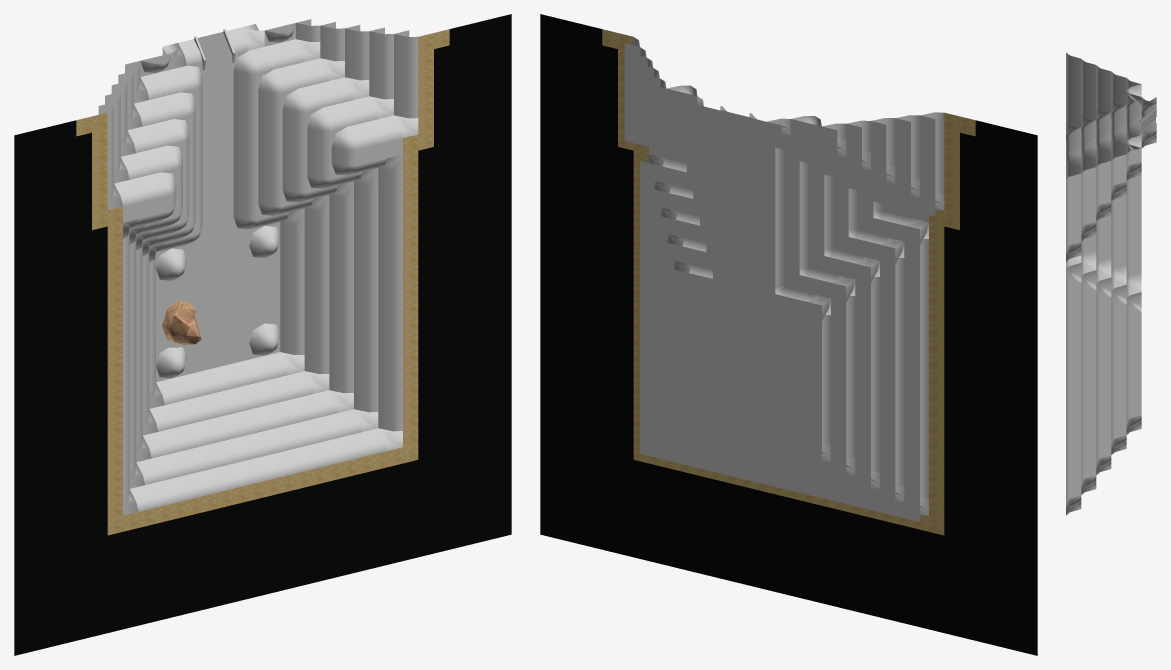
File: Subterranean-Cave-1_00_02.obj
3 renders of one model, left to right at view 1: azimuth 30°, elevation 25°; view 2: azimuth 150°, elevation 25°; view 3: azimuth 270°, elevation 25°, orthographic. The views are drawn at different scales.
Parts seen in each view (by area): view 1: map; view 2: map; view 3: map.
Boxes of the visible parts, left/top/right/bottom form: map: left=14, top=14, right=511, bottom=655; map: left=540, top=14, right=1037, bottom=655; map: left=1066, top=52, right=1156, bottom=515.
Size of the model in its own units: 32 by 32.22 by 6.01.
